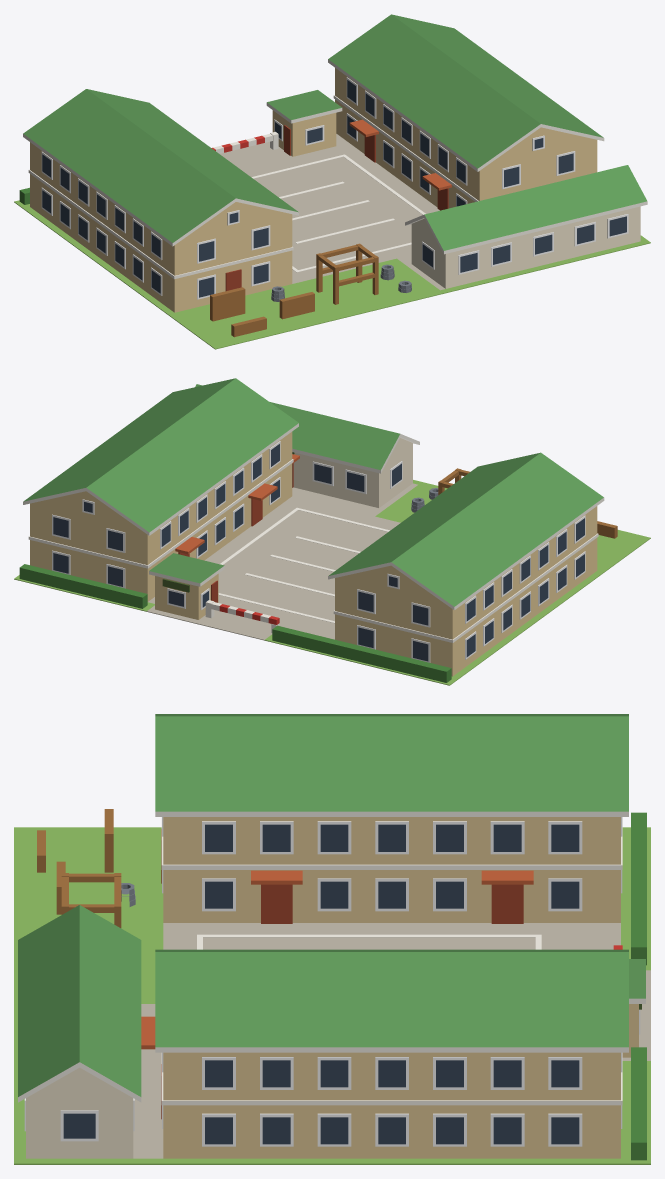
The model's file is barracks.glb.
3 views of the same model, one above another, from view 1: azimuth 30°, elevation 25°; view 2: azimuth 150°, elevation 25°; view 3: azimuth 270°, elevation 25° (orthographic). The views are drawn at different scales.
Visible parts, largest first — view 1: roof (×4), wall (×6), paving, lawn, roof_trim (×3), gable (×2), climb_wall (×3), band (×2), parade_lines; view 2: roof (×4), wall (×6), paving, hedge (×2), lawn, roof_trim (×3), gable (×2), band (×2), parade_lines; view 3: roof (×4), wall (×5), lawn, window_glass (×27), paving, roof_trim (×3), band (×2), hedge (×2), door (×2), awning (×2), parade_lines, gable (+1 smaller).
Boxes of the visible parts, x1=… form: roof (×4): x1=23, y1=14, x2=646, y2=250; wall (×6): x1=30, y1=68, x2=640, y2=312; paving: x1=220, y1=134, x2=444, y2=290; lawn: x1=14, y1=200, x2=650, y2=349; roof_trim (×3): x1=23, y1=59, x2=647, y2=254; gable (×2): x1=183, y1=127, x2=593, y2=239; climb_wall (×3): x1=210, y1=287, x2=314, y2=337; band (×2): x1=28, y1=95, x2=478, y2=279; parade_lines: x1=251, y1=154, x2=425, y2=272; roof (×4): x1=23, y1=378, x2=603, y2=606; wall (×6): x1=30, y1=432, x2=597, y2=676; paving: x1=147, y1=483, x2=417, y2=640; hedge (×2): x1=19, y1=564, x2=451, y2=682; lawn: x1=14, y1=480, x2=650, y2=685; roof_trim (×3): x1=23, y1=423, x2=604, y2=610; gable (×2): x1=33, y1=491, x2=443, y2=603; band (×2): x1=28, y1=459, x2=598, y2=642; parade_lines: x1=218, y1=507, x2=389, y2=623; roof (×4): x1=18, y1=714, x2=645, y2=1096; wall (×5): x1=26, y1=817, x2=620, y2=1158; lawn: x1=14, y1=827, x2=650, y2=1164; window_glass (×27): x1=63, y1=824, x2=579, y2=1144; paving: x1=133, y1=923, x2=650, y2=1158; roof_trim (×3): x1=18, y1=811, x2=628, y2=1102; band (×2): x1=161, y1=817, x2=622, y2=1105; hedge (×2): x1=631, y1=812, x2=646, y2=1160; door (×2): x1=261, y1=884, x2=523, y2=923; awning (×2): x1=251, y1=870, x2=533, y2=884; parade_lines: x1=197, y1=934, x2=541, y2=949; gable: x1=32, y1=1067, x2=127, y2=1094.
Bounding box in the file's own units: 40 × 9 × 32.
